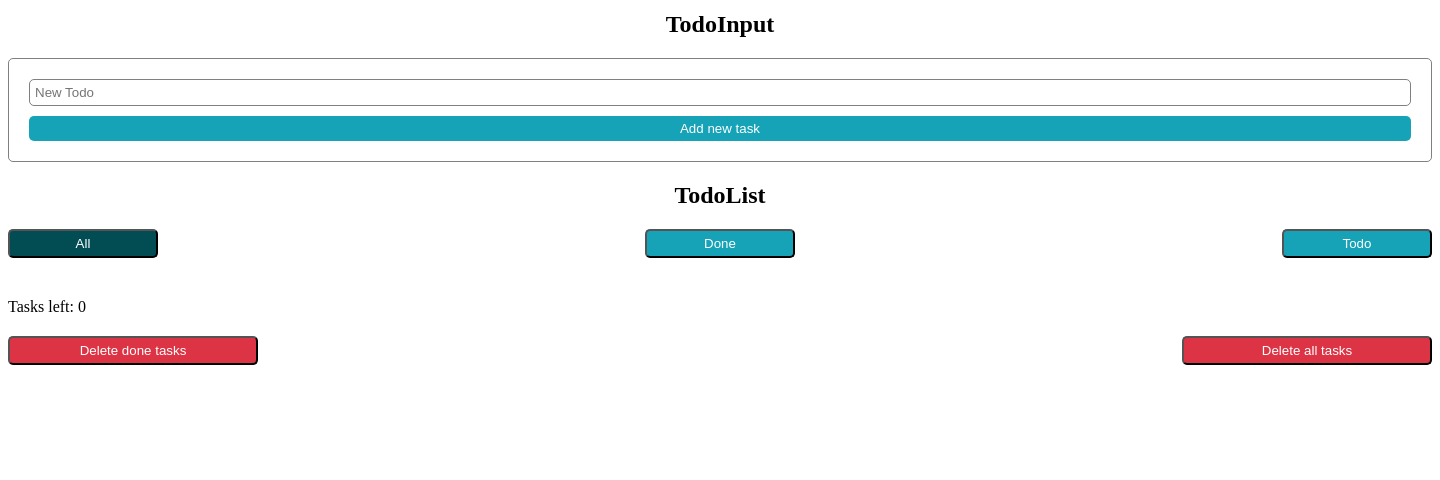
Test: Input Component › adds task on Enter key
The width and height of the screenshot is (1440, 480).
Type "Another Task" into the field with placeholder "New Todo" at (720, 92), box x1=29 y1=79 x2=1411 y2=106
Then press Enter
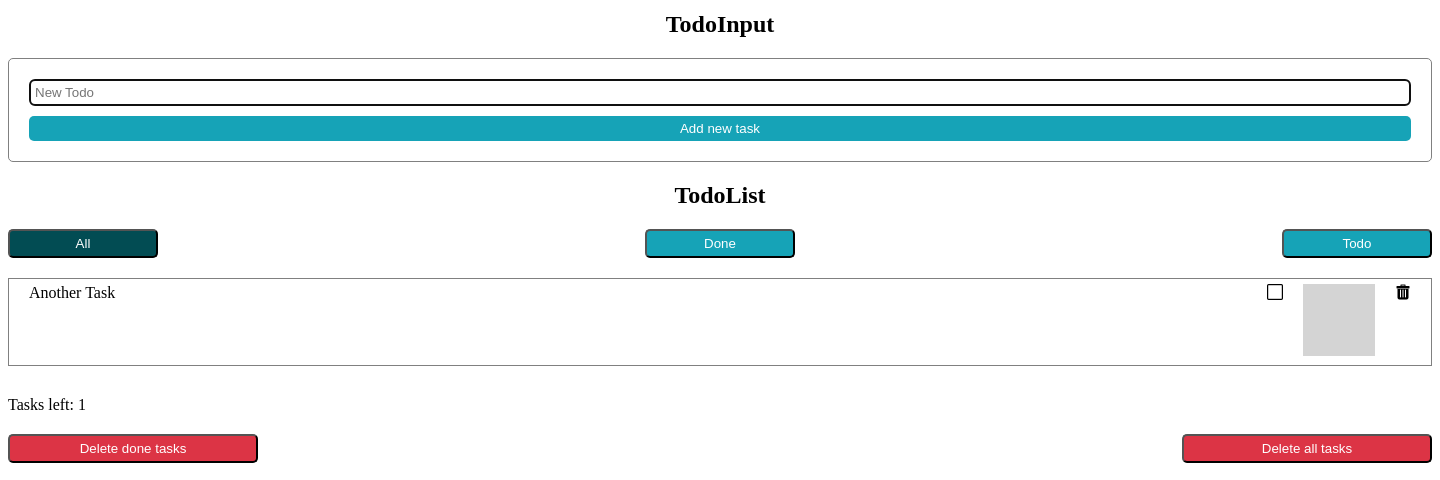
Result: the text "Another Task" is shown at x1=29 y1=284 x2=115 y2=301
